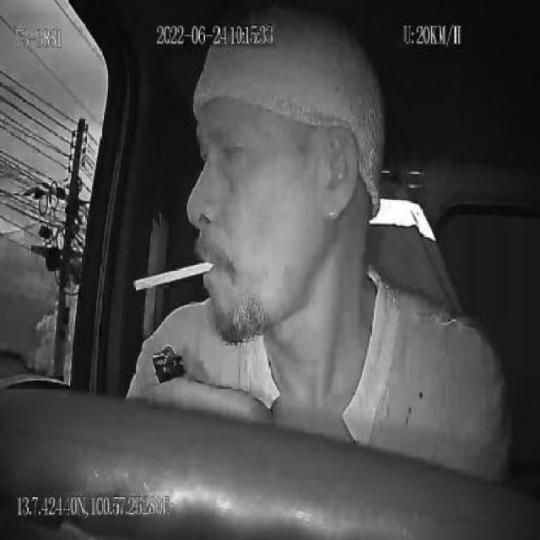smoking: (132, 260, 218, 290)
